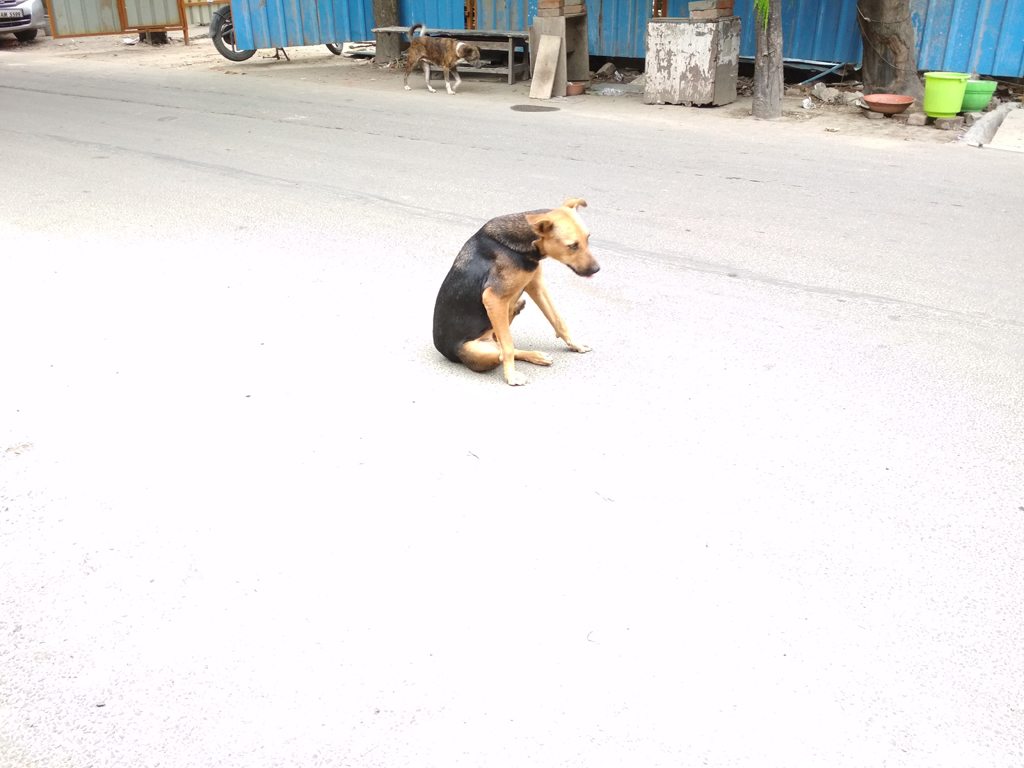dog: (433, 196, 602, 387), (402, 23, 482, 95)
